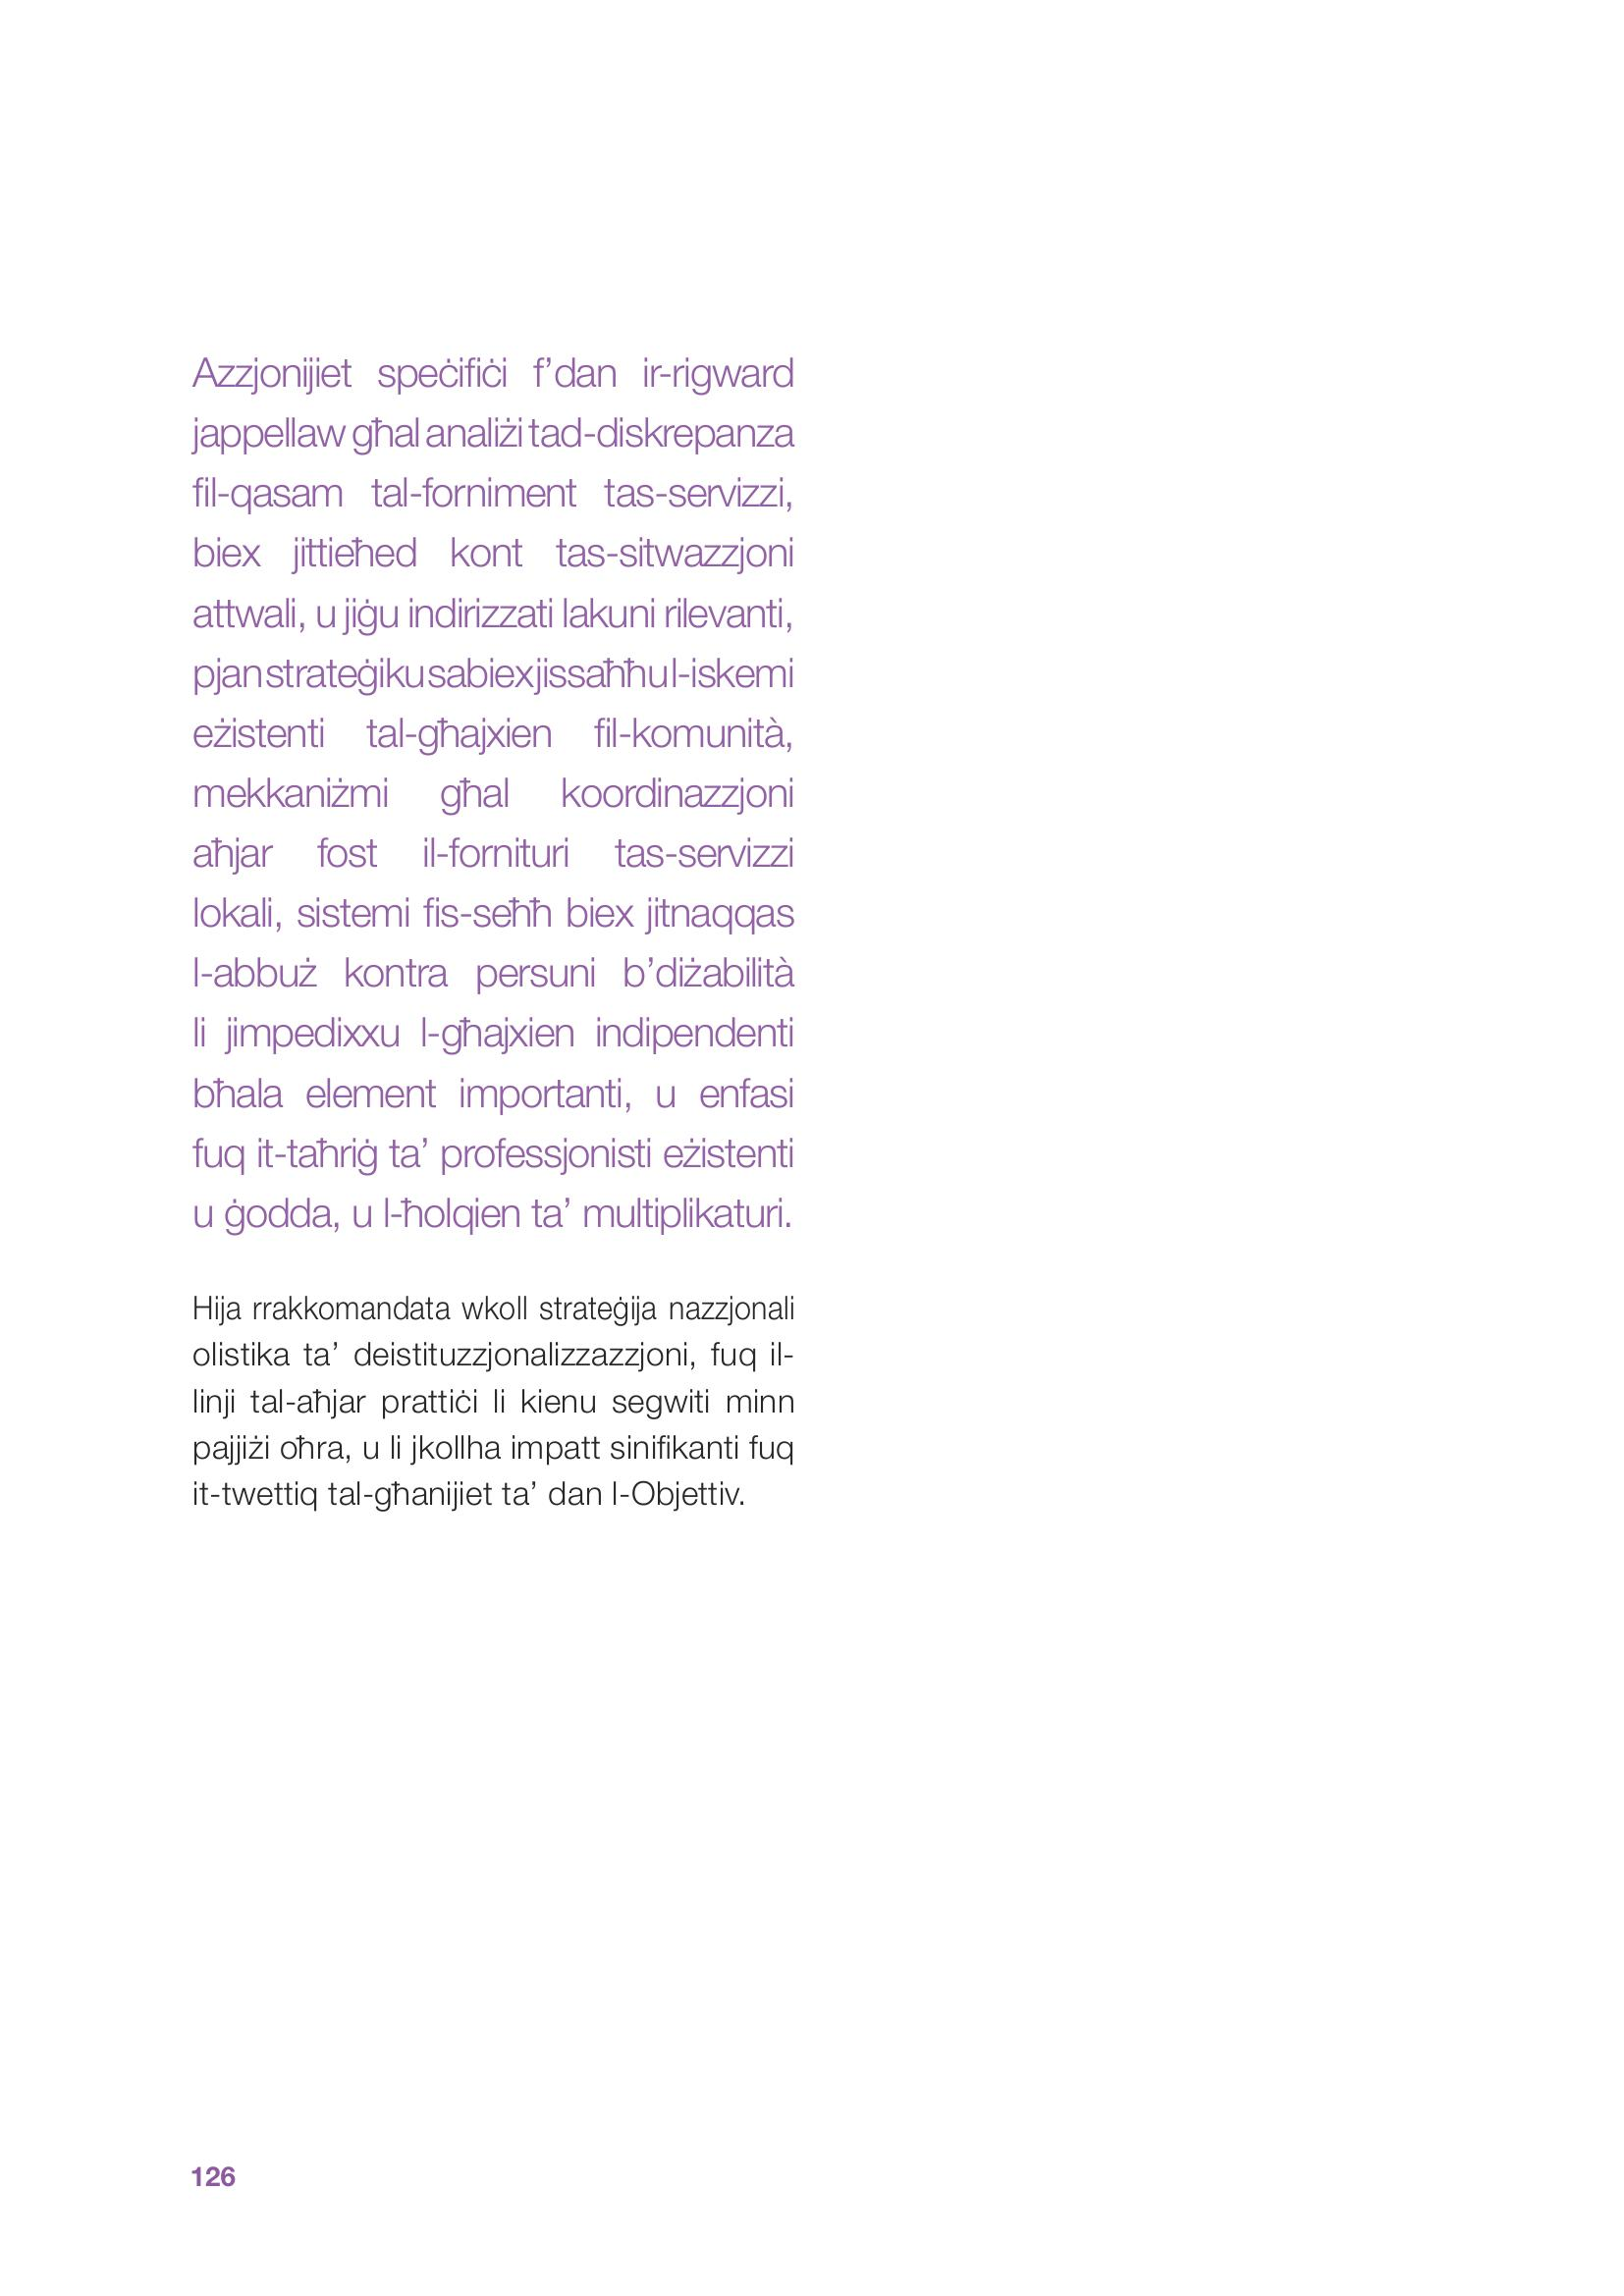text: (174, 341, 817, 1532)
